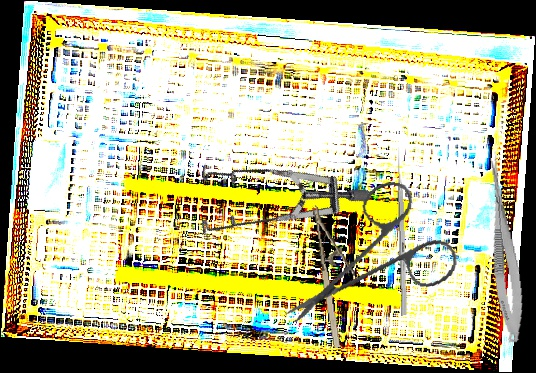Iris Scissors: (284, 167, 469, 349)
Micro Scissor: (476, 148, 530, 345)
Needle Holder: (312, 201, 364, 349)
Pusher: (395, 146, 408, 316)
Speculum: (173, 111, 374, 299)
